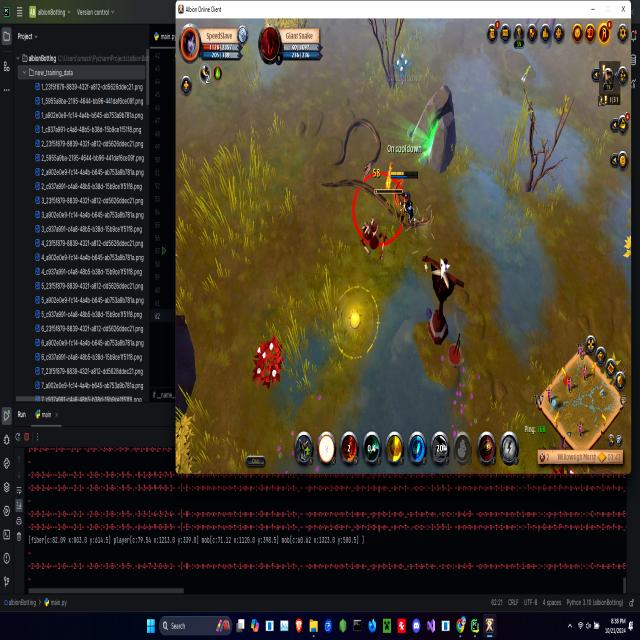hide: (250, 333, 284, 391), (392, 50, 411, 89)
ore: (316, 170, 436, 265)
red: (388, 165, 421, 229)
